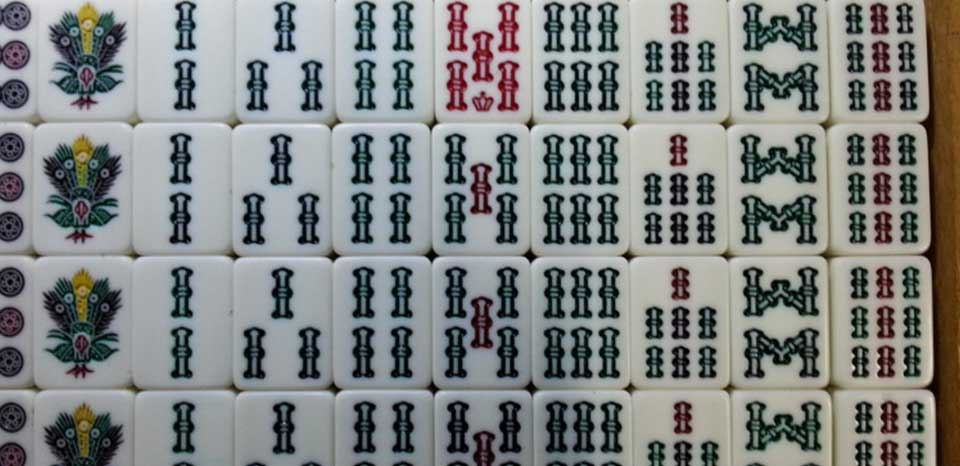sou_1: (34, 121, 138, 262)
sou_2: (134, 256, 234, 390)
sou_3: (231, 124, 336, 254)
sou_4: (331, 260, 441, 388)
sou_5: (440, 254, 536, 390)
sou_6: (533, 122, 634, 254)
sou_7: (627, 256, 732, 390)
sou_8: (729, 122, 834, 254)
sou_9: (829, 254, 931, 390)
sou_aka_5: (436, 1, 536, 124)
